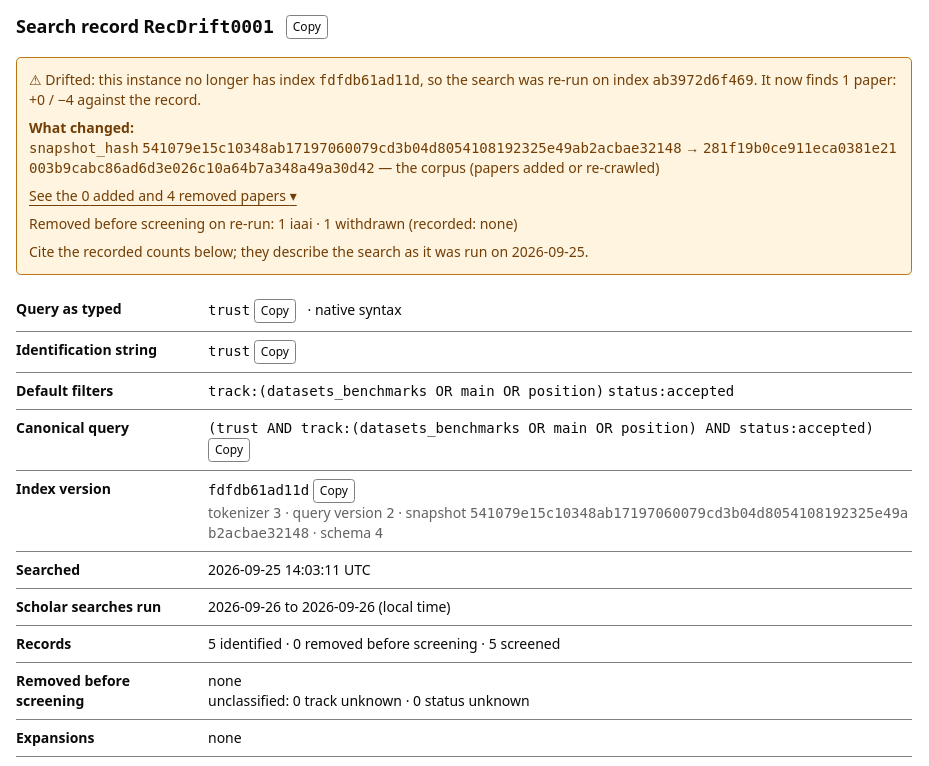
Test: drifted (design R2, R5) › names a track by the value the reader types when it has no short form
What coordinates should you click on to do the following:
click the button "See the 0 added and 4 removed papers ▾"
I would click on:
 (163, 196)
Its box is [29,186,297,206].
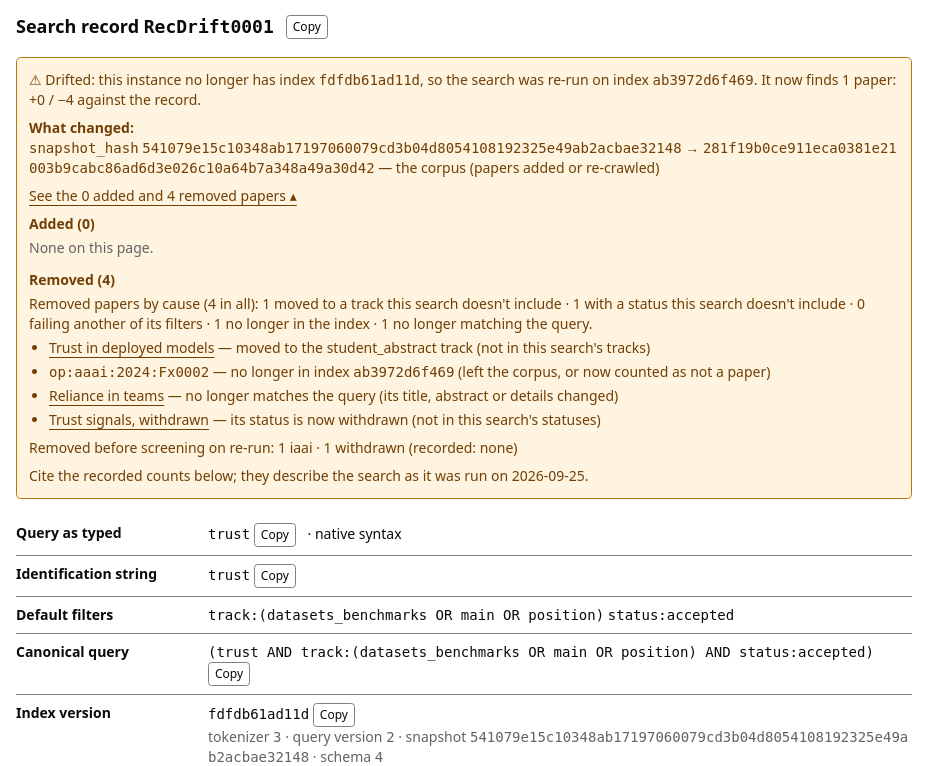
expect the list item "moved to the student_abstract track" is shown: met, box [214,338,650,357]
